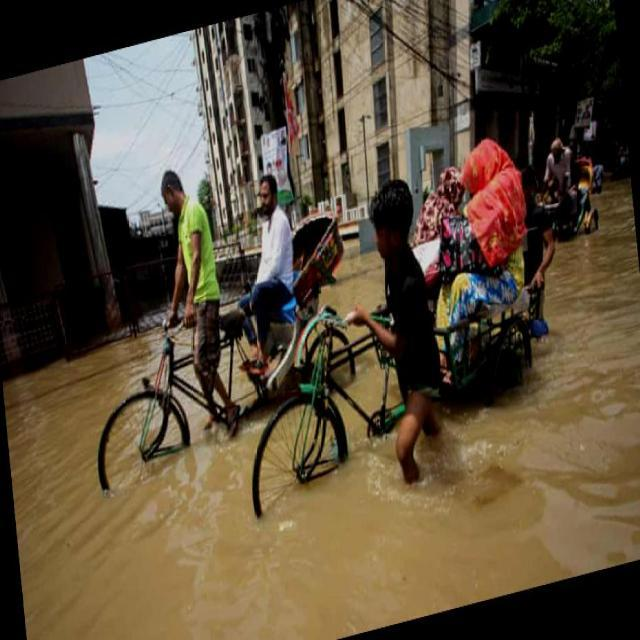flood: (0, 181, 639, 638)
